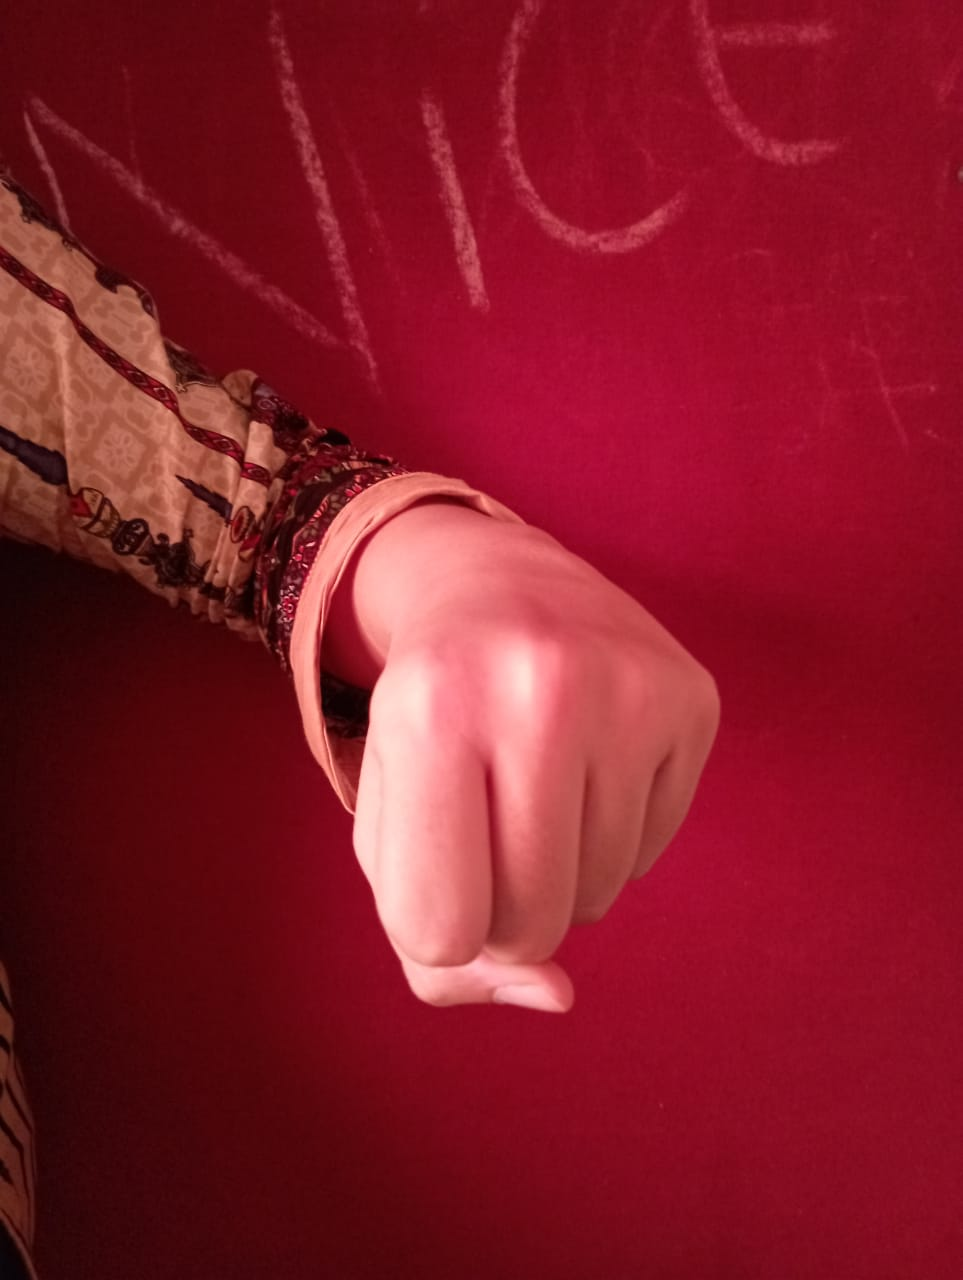BroCode: (323, 557, 748, 1066)
